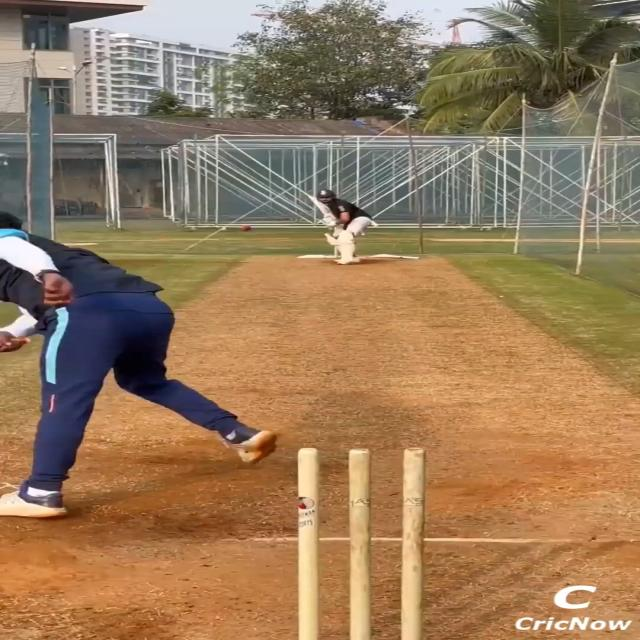ball: (239, 225, 253, 232)
stump: (294, 448, 424, 640)
